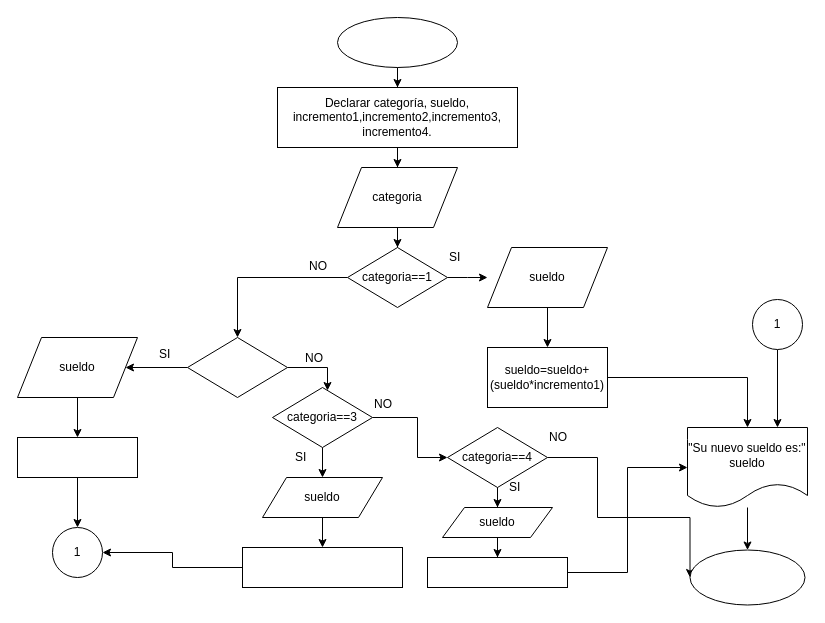
Some shapes in this 825 by 623 pixel diagram are drawn without their labels. The centre of each missing label's shape, as x and y in pixels:
"categoria==2" goes at [237,367].
"FIN" goes at [747,577].
"INICIO" goes at [397,42].
"sueldo=sueldo+(sueldo*incremento2)" goes at [77,457].
"sueldo=sueldo+(sueldo*incremento3)" goes at [322,567].
"sueldo=sueldo+(sueldo*incremento4)" goes at [497,572].
